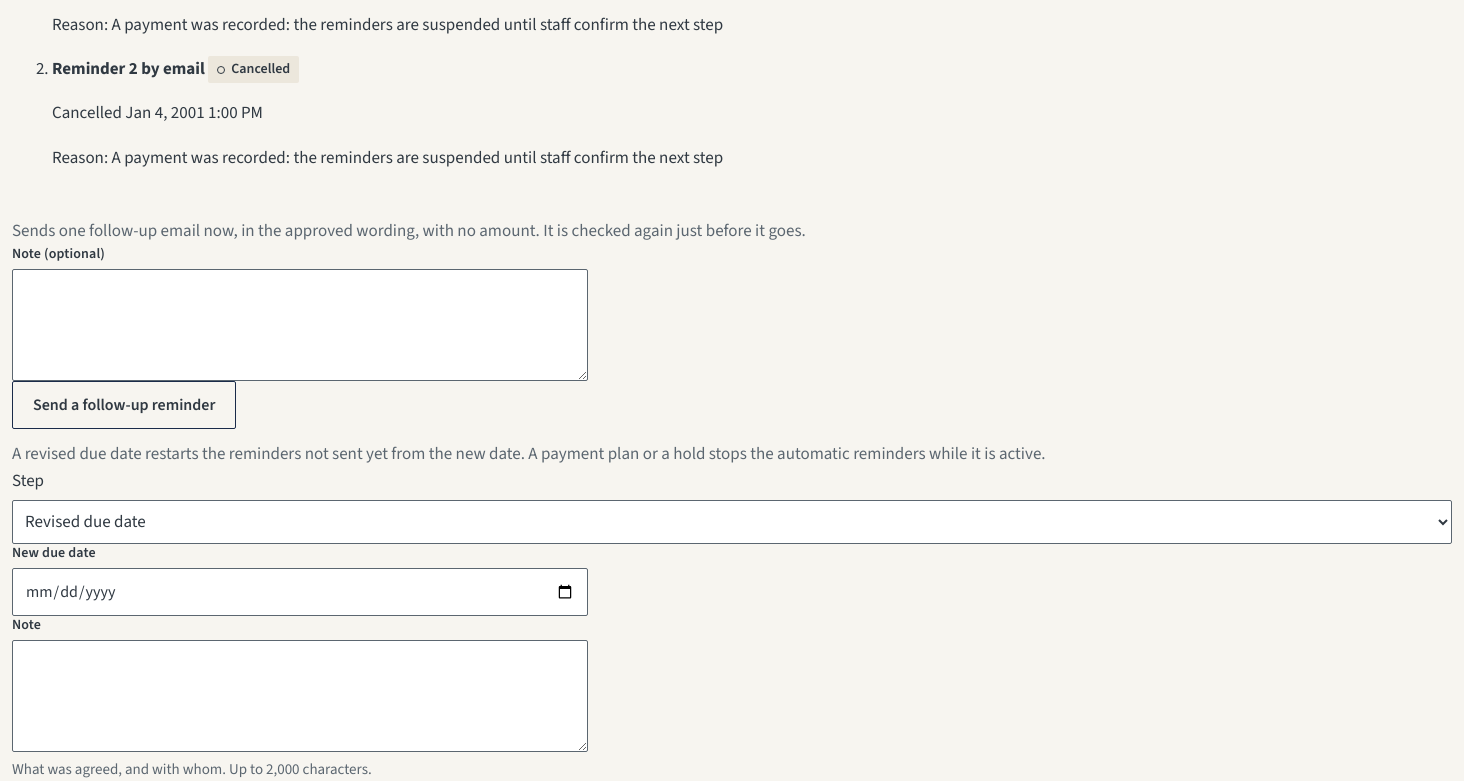
Test: [HH-FIN-19][OWN-DEC-210] the payment reminders panel › a payment suspends them: the stop reason, the review, and the follow-up the staff may release
(page scrolled)
Expected: the text "Reason: A payment was recorded: the reminders are suspended until staff confirm the next step" is shown 2 times, 52,13 -> 723,37; 52,146 -> 723,170
Click the button "Send a follow-up reminder". click: (124, 405)
box: 12,381 -> 236,429
(page scrolled)
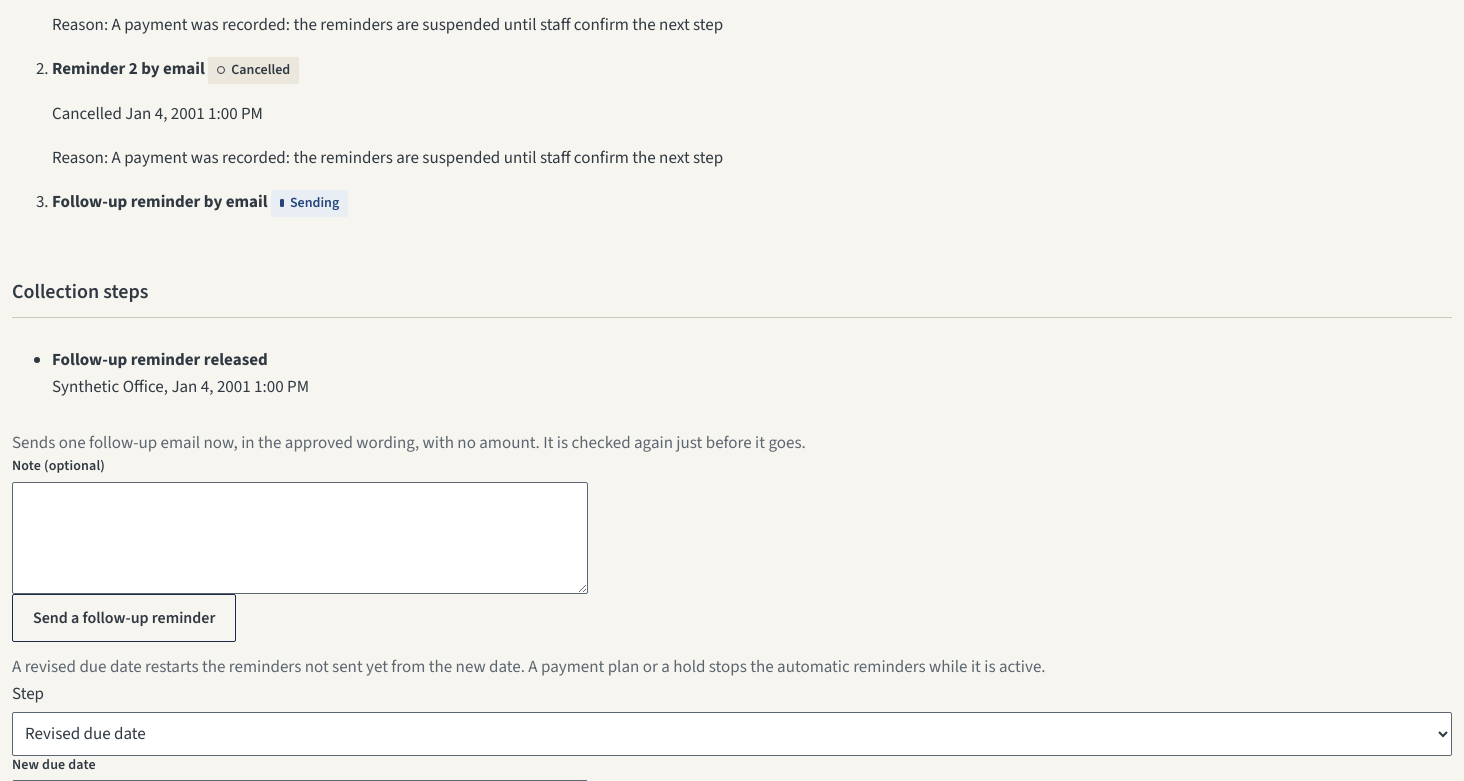
Result: the text "Follow-up reminder by email" is shown at 52,190 -> 268,214
Result: the text "Follow-up reminder released" is shown at 52,348 -> 268,372
